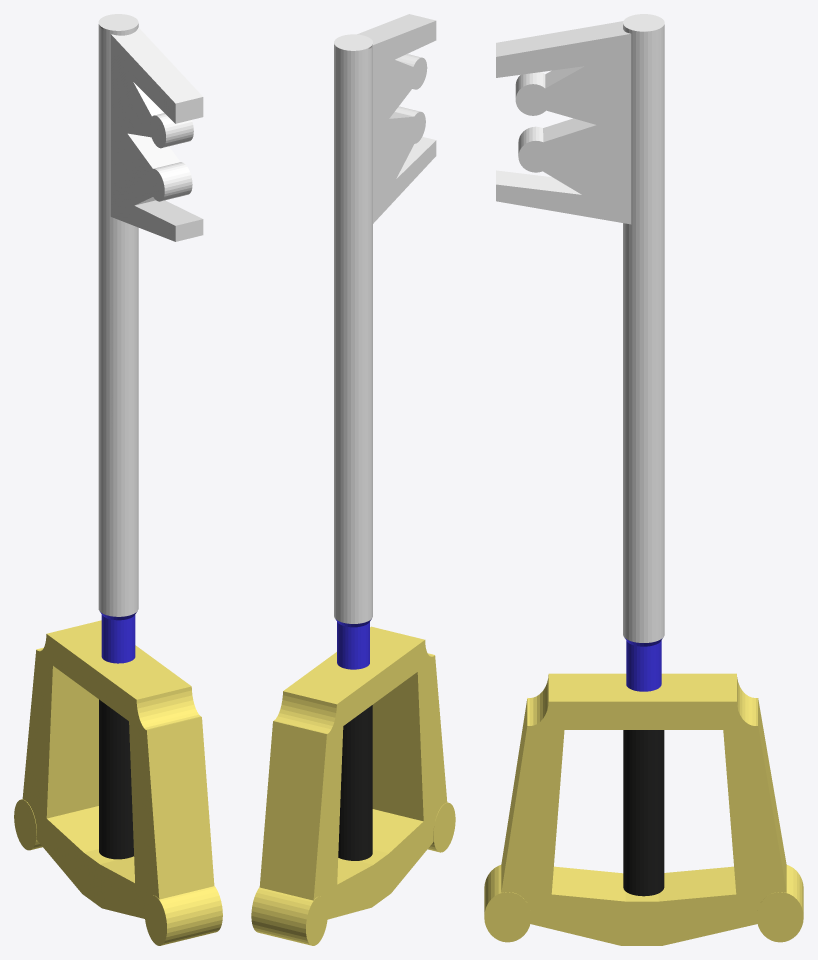
File: sword.obj
The picture shows the model from 3 angles, left to right: view 1: azimuth 30°, elevation 25°; view 2: azimuth 150°, elevation 25°; view 3: azimuth 270°, elevation 25°; orthographic projection. The views are drawn at different scales.
Parts seen in each view (by area): view 1: keyblade; view 2: keyblade; view 3: keyblade.
Part boxes in pixels (left/top/right/bottom): keyblade: left=14, top=14, right=222, bottom=945; keyblade: left=251, top=14, right=455, bottom=945; keyblade: left=484, top=14, right=803, bottom=945.
Size of the model in its own units: 0.2925 by 4.37 by 1.39.
1 material, 1 textured.
